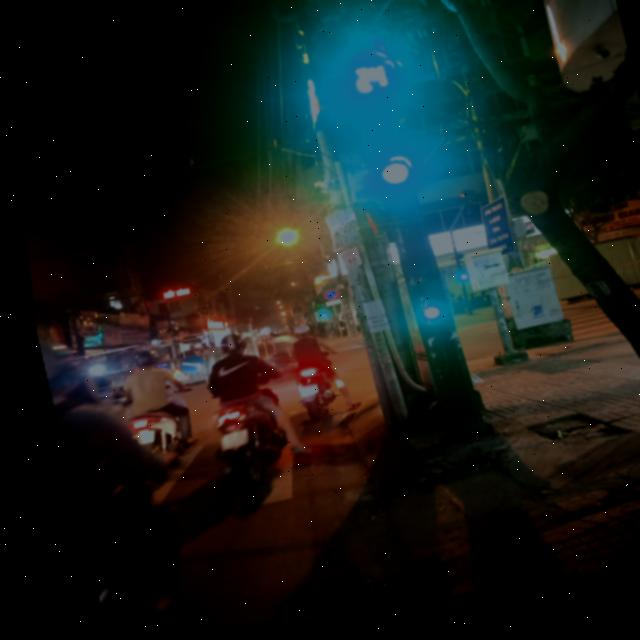Green: (351, 98, 416, 203), (395, 276, 446, 345)
